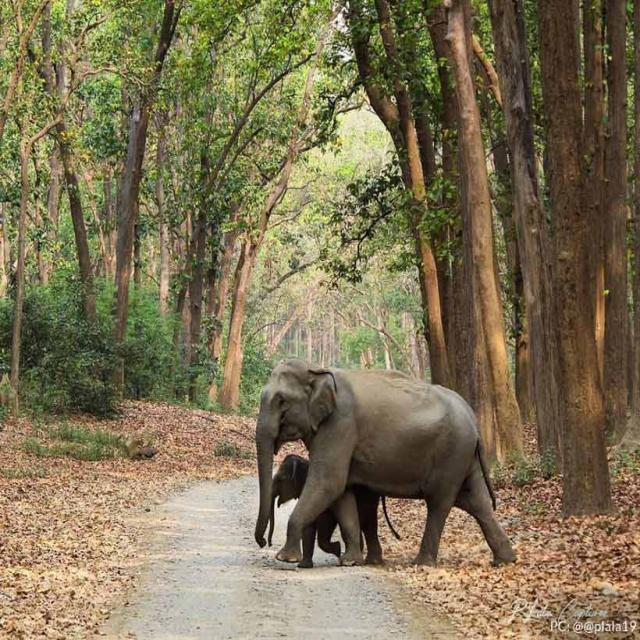Elephant: (231, 342, 539, 595), (261, 445, 419, 576)
